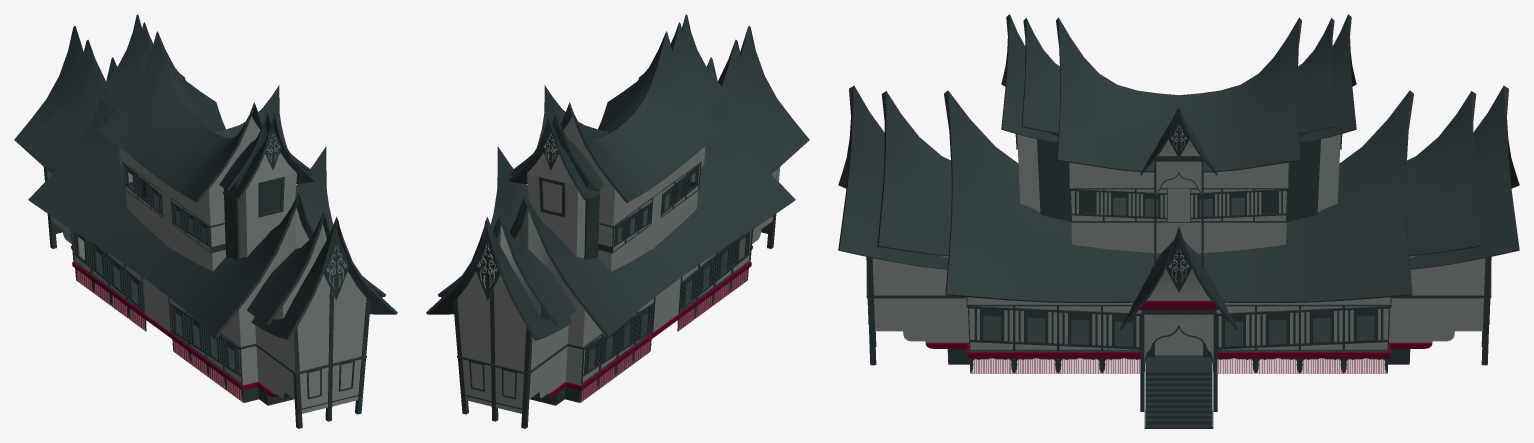
The model's file is gadang house 2.fbx.
3 views of the same model, side by side, from view 1: azimuth 30°, elevation 25°; view 2: azimuth 150°, elevation 25°; view 3: azimuth 270°, elevation 25° (orthographic). The views are drawn at different scales.
Visible parts, largest first — view 1: Plane.004, Plane.024, Plane.021, Plane.031, Plane.005, Plane.012, Plane.040, Plane.028, Plane.041; view 2: Plane.004, Plane.024, Plane.021, Plane.031, Plane.005, Plane.012, Plane.040, Plane.028, Plane.041; view 3: Plane.004, Plane.024, Plane.021, Plane.031, Plane.012, Plane.018, Plane.005, Plane.028, Plane.042.
Part boxes in pixels (x1,y1,x2,y2): Plane.004: [14, 26, 397, 428]; Plane.024: [96, 14, 315, 203]; Plane.021: [122, 116, 260, 271]; Plane.031: [118, 126, 296, 259]; Plane.005: [76, 270, 243, 402]; Plane.012: [295, 146, 333, 231]; Plane.040: [323, 228, 349, 300]; Plane.028: [214, 85, 287, 147]; Plane.041: [265, 126, 281, 170]; Plane.004: [426, 26, 809, 428]; Plane.024: [508, 14, 727, 203]; Plane.021: [563, 116, 701, 271]; Plane.031: [527, 126, 705, 259]; Plane.005: [580, 270, 747, 402]; Plane.012: [490, 146, 528, 231]; Plane.040: [474, 228, 500, 300]; Plane.028: [536, 85, 609, 147]; Plane.041: [542, 126, 558, 170]; Plane.004: [838, 85, 1519, 373]; Plane.024: [1001, 14, 1356, 172]; Plane.021: [1069, 162, 1288, 253]; Plane.031: [1015, 132, 1342, 221]; Plane.012: [1120, 226, 1237, 411]; Plane.018: [1144, 357, 1213, 428]; Plane.005: [971, 358, 1386, 373]; Plane.028: [1140, 107, 1217, 268]; Plane.042: [1165, 237, 1192, 292].
Size of what is drawn, in the model's own units: 536 by 707 by 1240.
